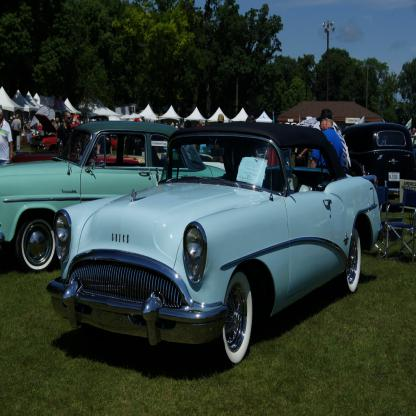Car: (0, 113, 416, 366)
